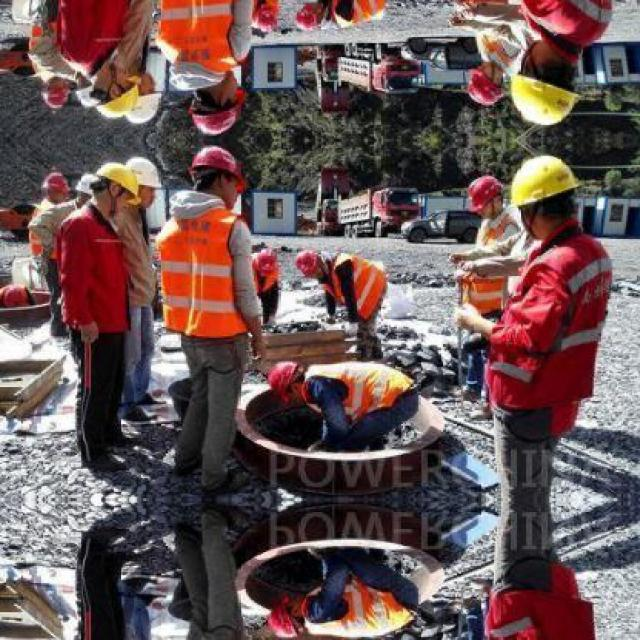boots: (202, 469, 250, 495), (83, 452, 127, 472)
hard-hat: (509, 155, 579, 208), (187, 144, 245, 192), (96, 162, 140, 198), (267, 361, 300, 403), (466, 175, 502, 213), (270, 587, 297, 637), (125, 157, 163, 189), (294, 250, 318, 278)
person: (453, 154, 614, 590), (154, 144, 268, 496), (55, 161, 151, 471), (450, 175, 525, 420), (266, 548, 428, 639), (266, 359, 420, 453), (295, 248, 388, 360)
vest: (482, 219, 613, 437), (154, 189, 254, 337), (53, 200, 137, 336), (290, 363, 410, 415), (294, 578, 410, 630), (461, 217, 514, 311), (319, 255, 385, 312)
